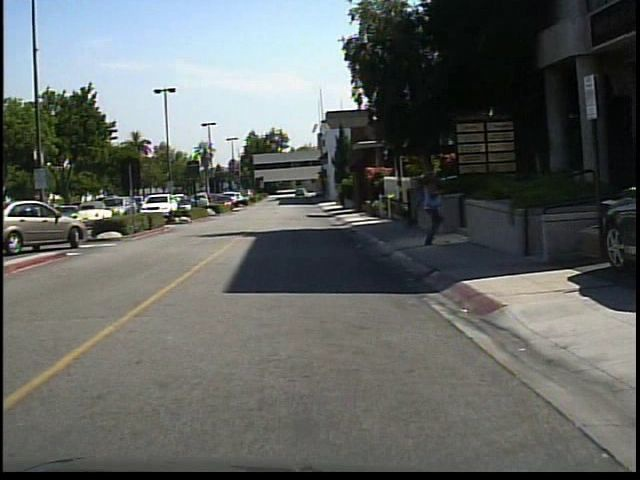person: (413, 164, 446, 250)
